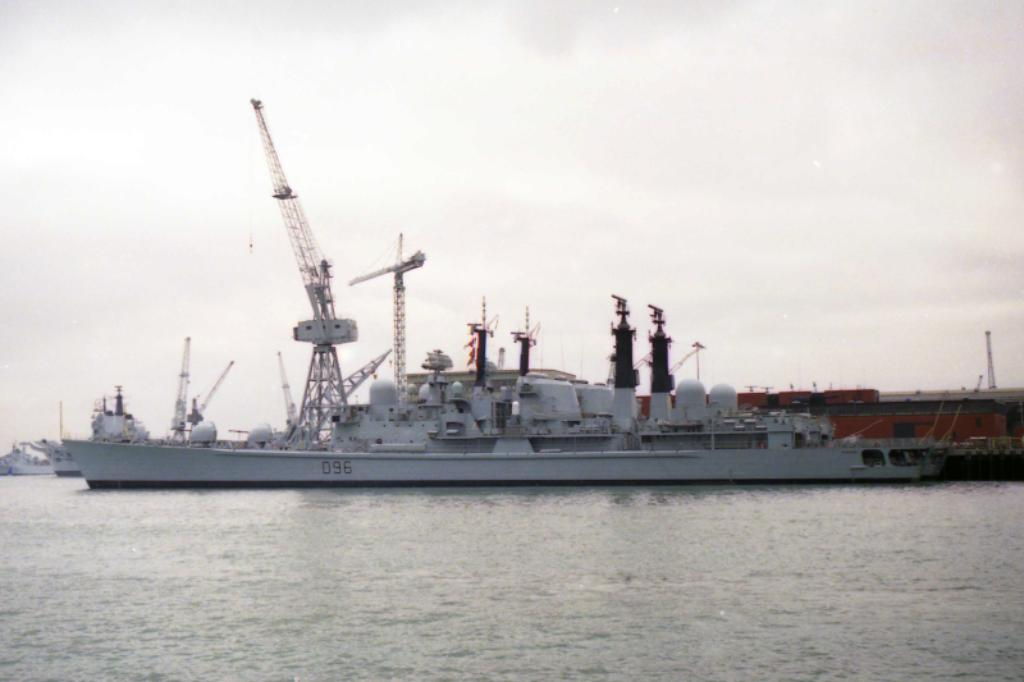Warship: (58, 290, 956, 488)
